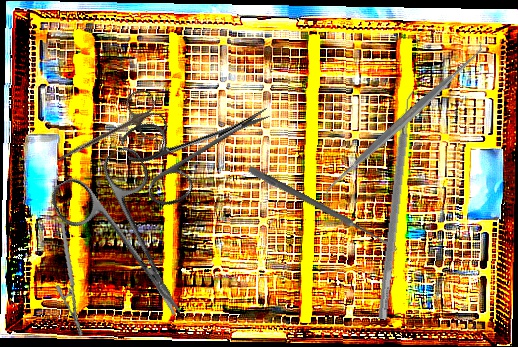Iris Scissors: (45, 142, 218, 341), (117, 71, 287, 214), (46, 85, 171, 185)
Needle Holder: (41, 221, 103, 338)
Spatula Surgical: (312, 38, 494, 206), (377, 87, 422, 321)
Surgical Spoon: (247, 165, 400, 253)
